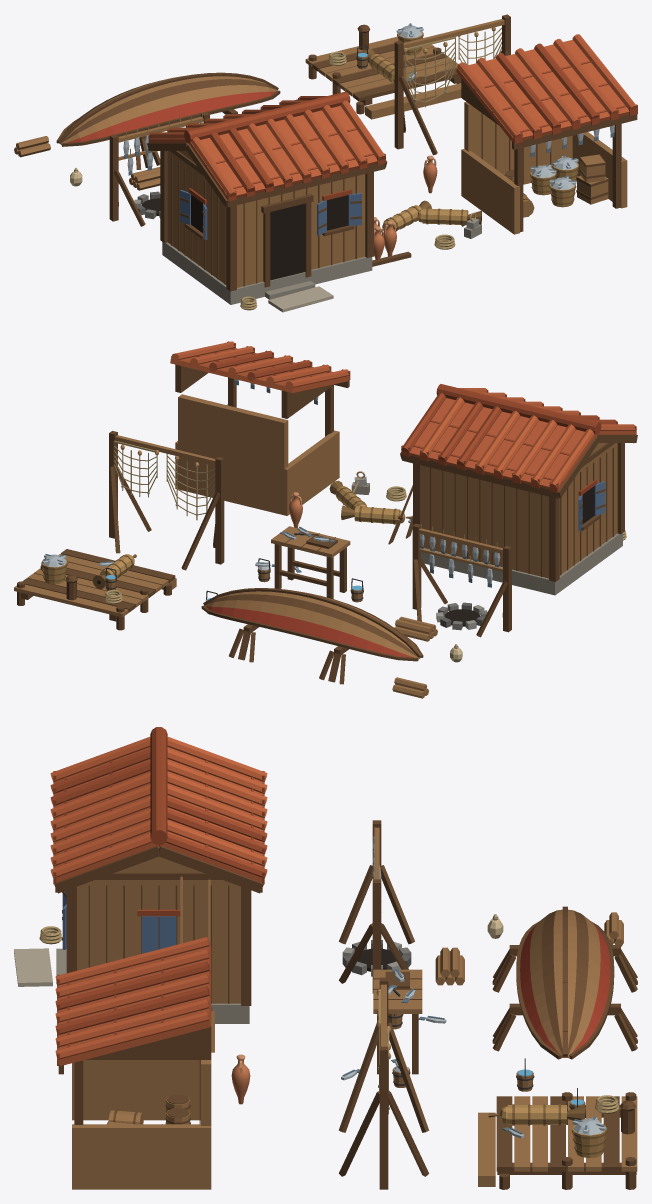
The model's file is Fischer.fbx.
3 renders of one model, top to bottom at view 1: azimuth 30°, elevation 25°; view 2: azimuth 150°, elevation 25°; view 3: azimuth 270°, elevation 25°, orthographic. The views are drawn at different scales.
Visible parts, largest first — view 1: Fischer_0; view 2: Fischer_0; view 3: Fischer_0.
Part boxes in pixels (<box>): Fischer_0: <box>14,14,637,312</box>; Fischer_0: <box>14,341,637,698</box>; Fischer_0: <box>14,727,637,1189</box>.
Bounding box in the file's own units: 3.62 × 1.29 × 3.58.
